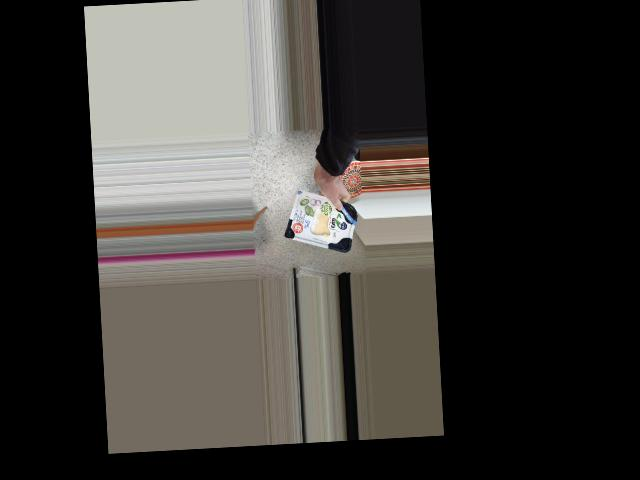cheese: (282, 188, 360, 256)
